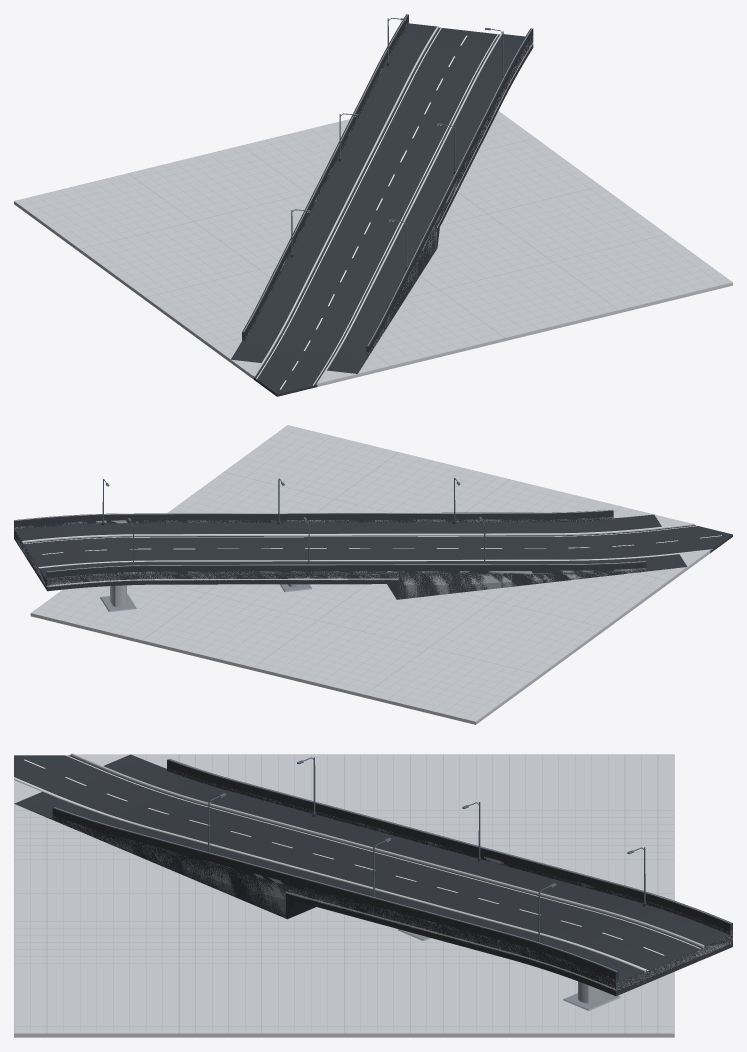
File: ponte_diagonal_cabeceira_rua_calcada.glb
The picture shows the model from 3 angles, top to bottom: view 1: azimuth 30°, elevation 25°; view 2: azimuth 150°, elevation 25°; view 3: azimuth 270°, elevation 25°; orthographic projection. The views are drawn at different scales.
Visible parts, largest first — view 1: ponte_diagonal_cabeceira_rua_calcada, colisao_rampa; view 2: ponte_diagonal_cabeceira_rua_calcada, colisao_rampa; view 3: ponte_diagonal_cabeceira_rua_calcada, colisao_rampa.
Part boxes in pixels (x1,y1,x2,y2): ponte_diagonal_cabeceira_rua_calcada: (14, 14, 732, 396); colisao_rampa: (231, 14, 533, 373); ponte_diagonal_cabeceira_rua_calcada: (14, 425, 732, 724); colisao_rampa: (14, 509, 687, 599); ponte_diagonal_cabeceira_rua_calcada: (14, 753, 732, 1037); colisao_rampa: (14, 754, 732, 996).
Size of the model in its own units: 65.31 by 13.5 by 65.31.
Materials: 2 (1 with a texture image).
